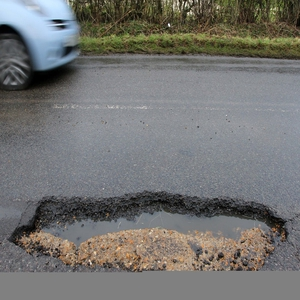pothole: (17, 195, 289, 272)
